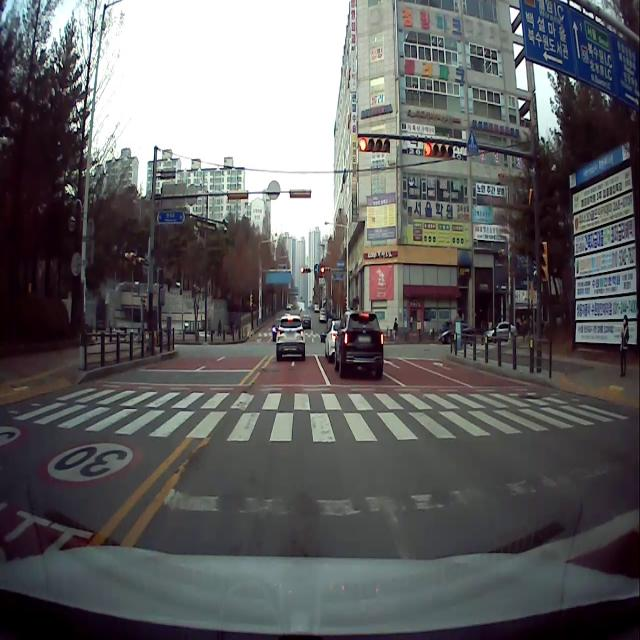Red Light: (358, 138, 367, 151), (424, 142, 432, 156)
